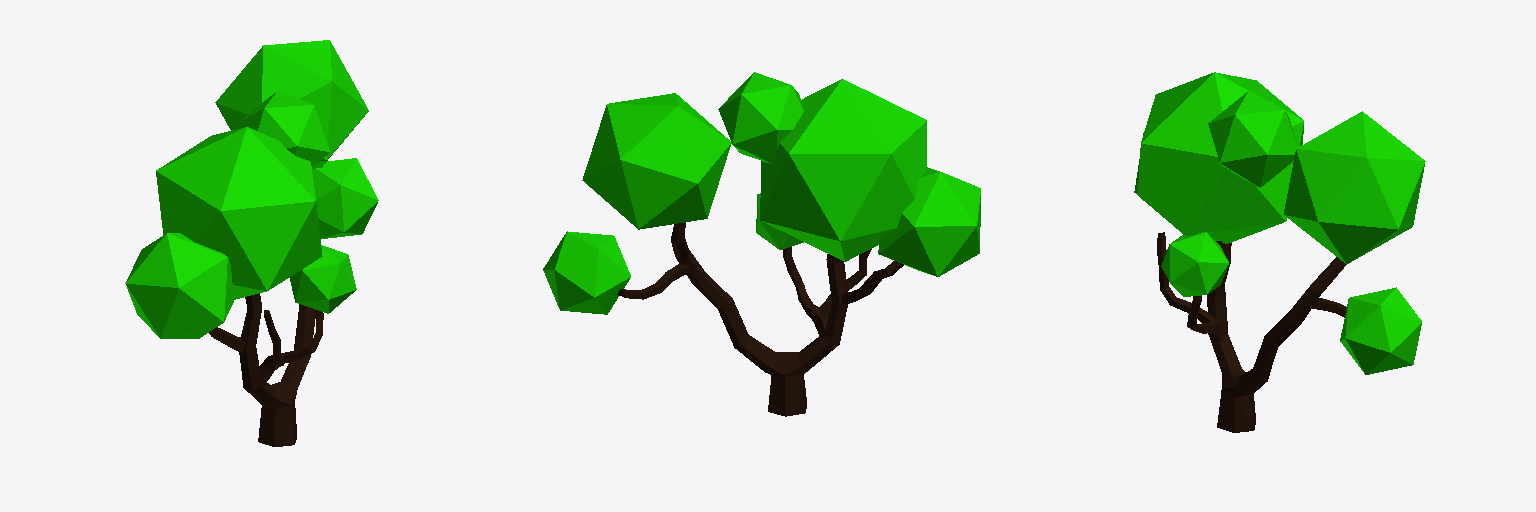
Rendered from tree_3.obj.
3 renders of one model, left to right at view 1: azimuth 30°, elevation 25°; view 2: azimuth 150°, elevation 25°; view 3: azimuth 270°, elevation 25°, orthographic.
Parts seen in each view (by area): view 1: Tree_lp_11; view 2: Tree_lp_11; view 3: Tree_lp_11.
Part boxes in pixels (left/top/right/bottom): Tree_lp_11: left=125, top=40, right=378, bottom=446; Tree_lp_11: left=543, top=72, right=980, bottom=416; Tree_lp_11: left=1134, top=72, right=1425, bottom=432.
Size of the model in its own units: 27.98 by 26.54 by 20.8.